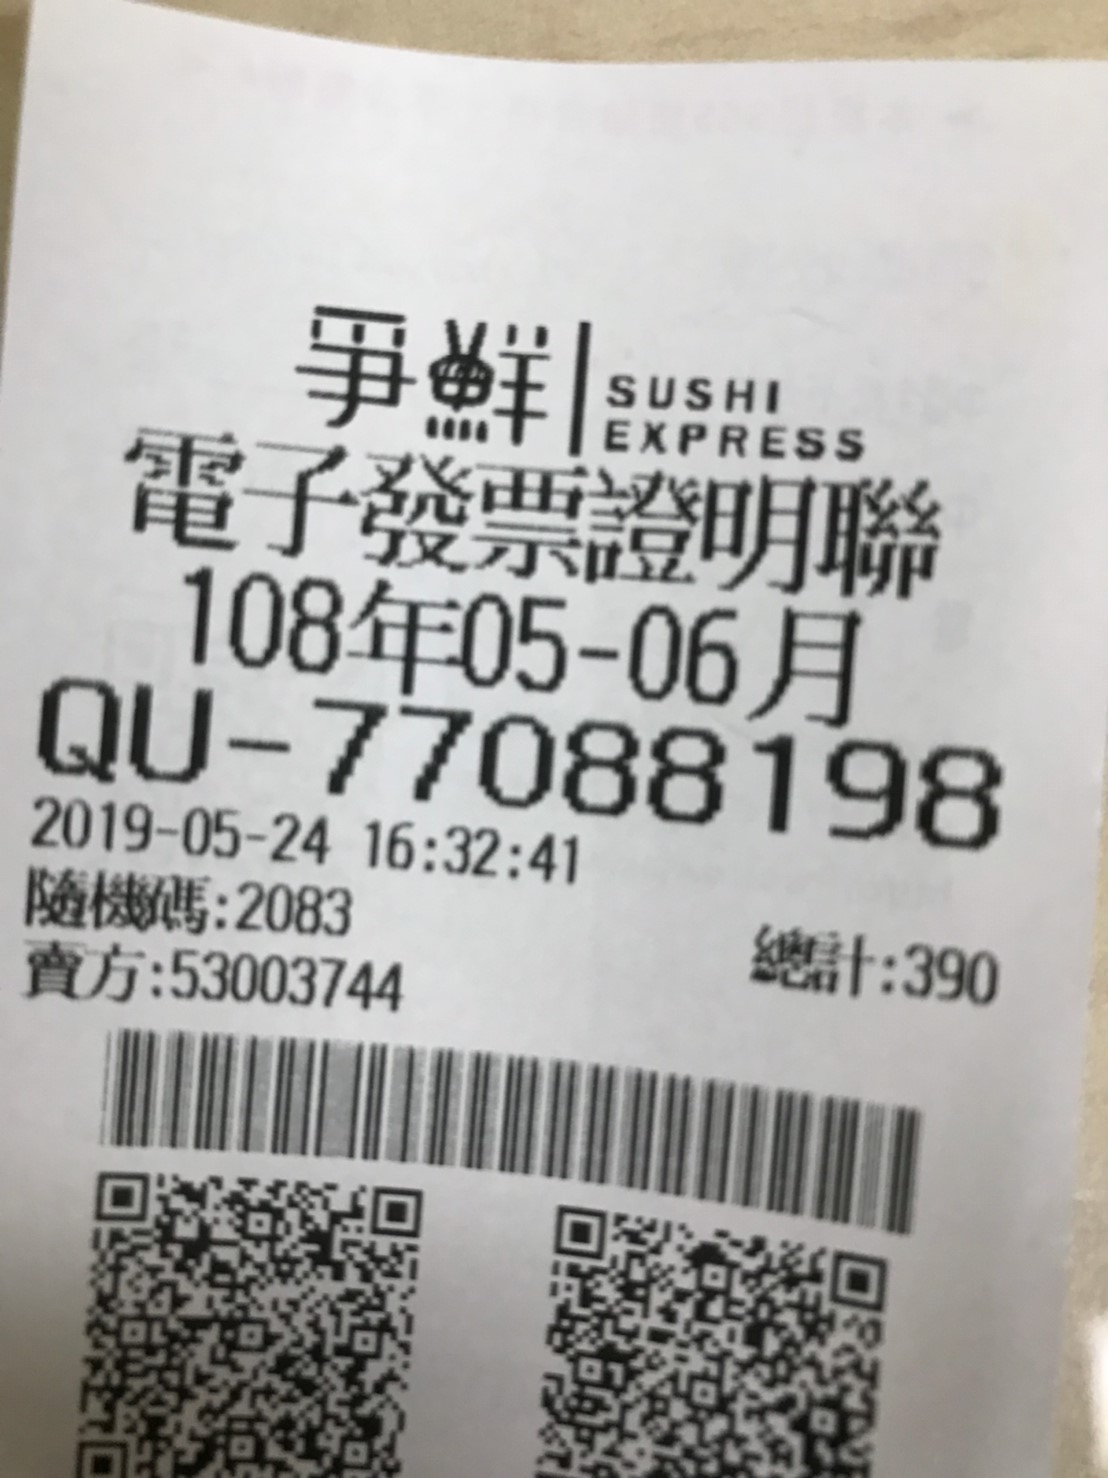Date_New: (179, 562, 864, 725)
Number_New: (307, 690, 1010, 858)
